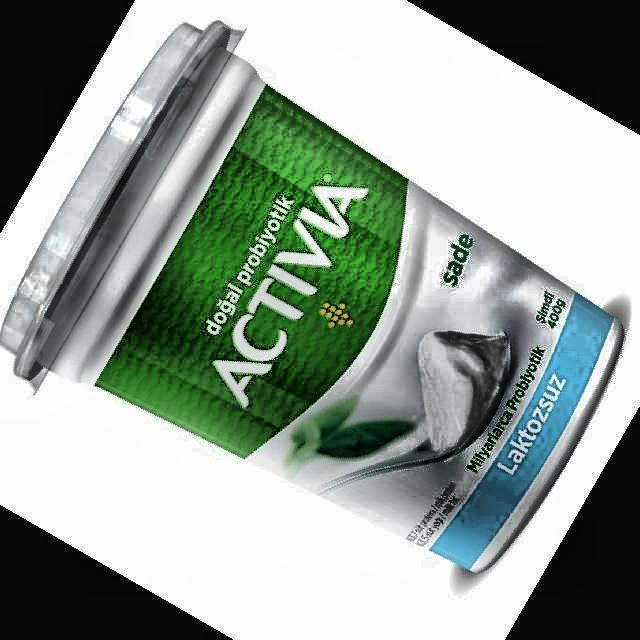plastic: (0, 25, 624, 572)
